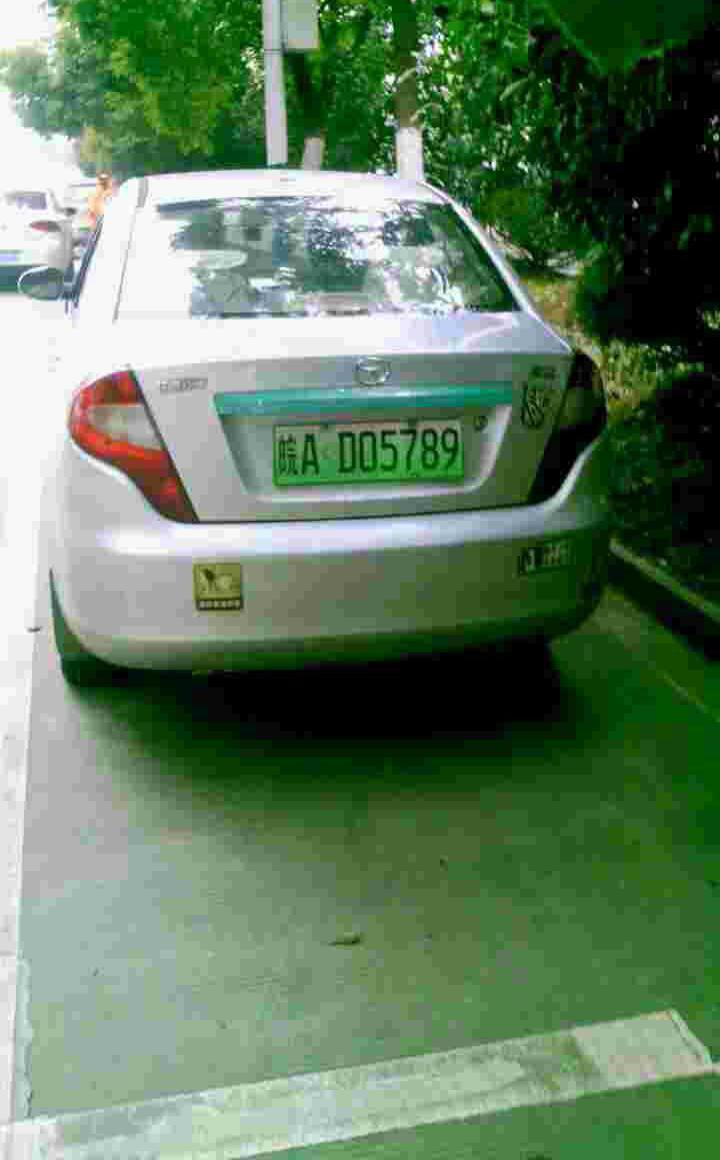car: (266, 427, 465, 482)
